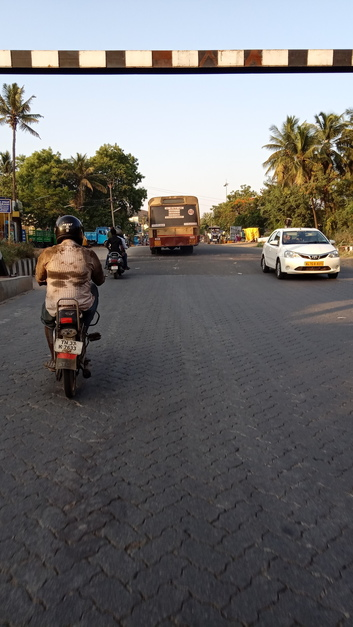bump: (127, 254, 256, 260)
